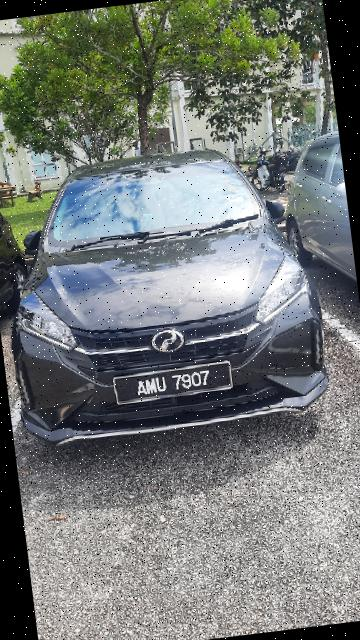License_Plate: (110, 356, 242, 409)
car: (1, 136, 342, 459)
